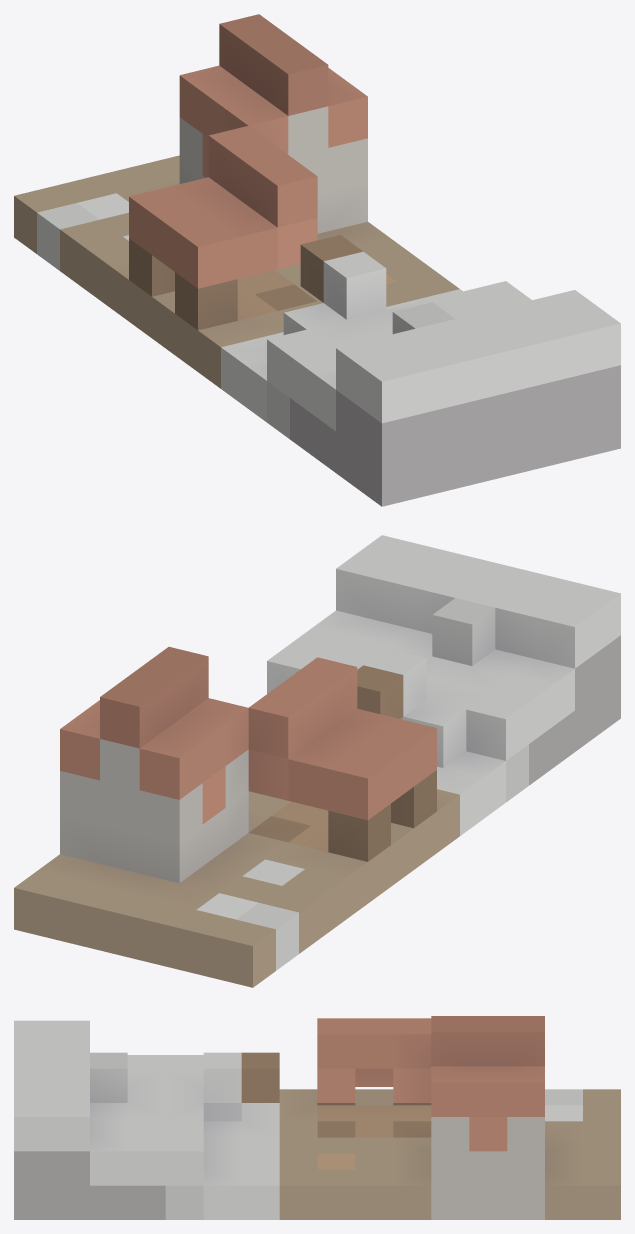
The model's file is quartz_quarry.lite.glb.
3 views of the same model, one above another, from view 1: azimuth 30°, elevation 25°; view 2: azimuth 150°, elevation 25°; view 3: azimuth 270°, elevation 25° (orthographic). The views are drawn at different scales.
Parts seen in each view (by area): view 1: quartz_quarry; view 2: quartz_quarry; view 3: quartz_quarry.
Part boxes in pixels (x1=…): quartz_quarry: x1=14, y1=14, x2=620, y2=506; quartz_quarry: x1=14, y1=535, x2=620, y2=987; quartz_quarry: x1=14, y1=1016, x2=620, y2=1219.
Bounding box in the file's own units: 3 × 2.5 × 8.
